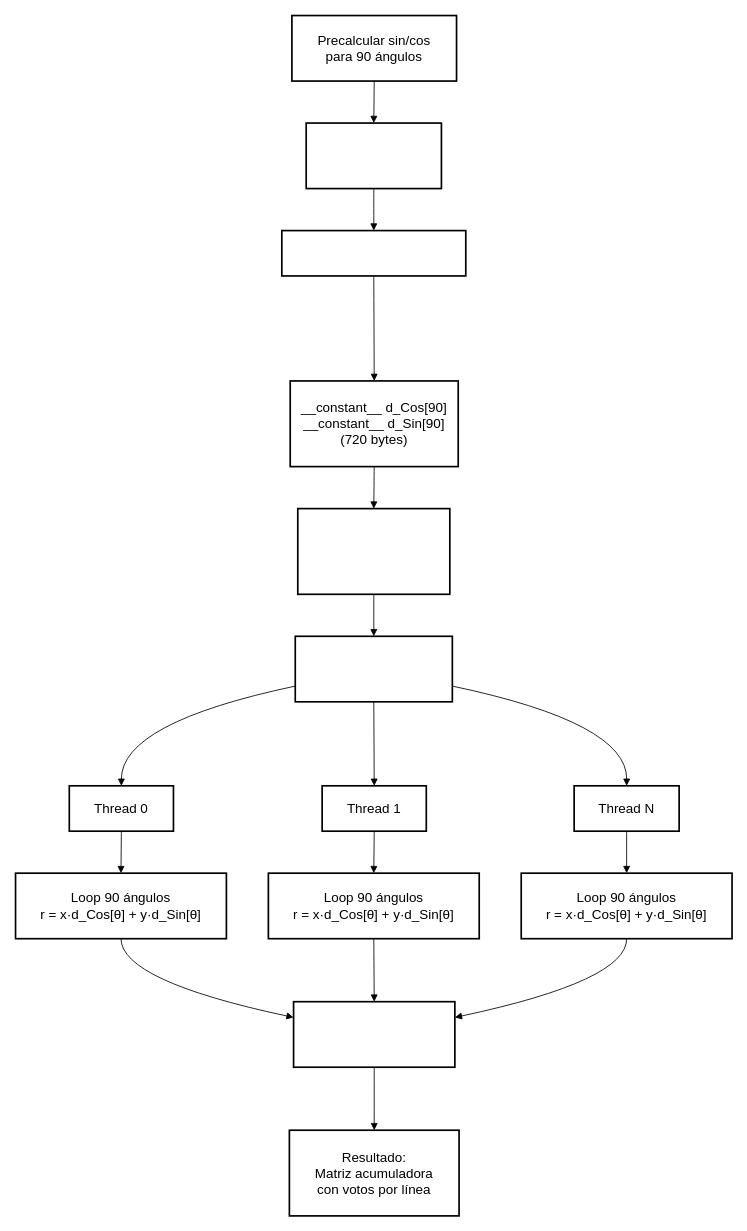
The diagram is 747 pixels wide and 1231 high, and some of its shapes have lost their labels. Each missing label, with the box of its shape:
atomicAdd al acumulador global: (292, 1000, 455, 1068)
Broadcast a todos los hilos del warp: (294, 635, 453, 702)
Constant Cache 8KB per SM ⚡ Baja latencia: (297, 507, 450, 595)
cudaMemcpyToSymbol: (281, 229, 466, 276)
h_Cos y h_Sin arrays en RAM: (305, 122, 442, 189)
